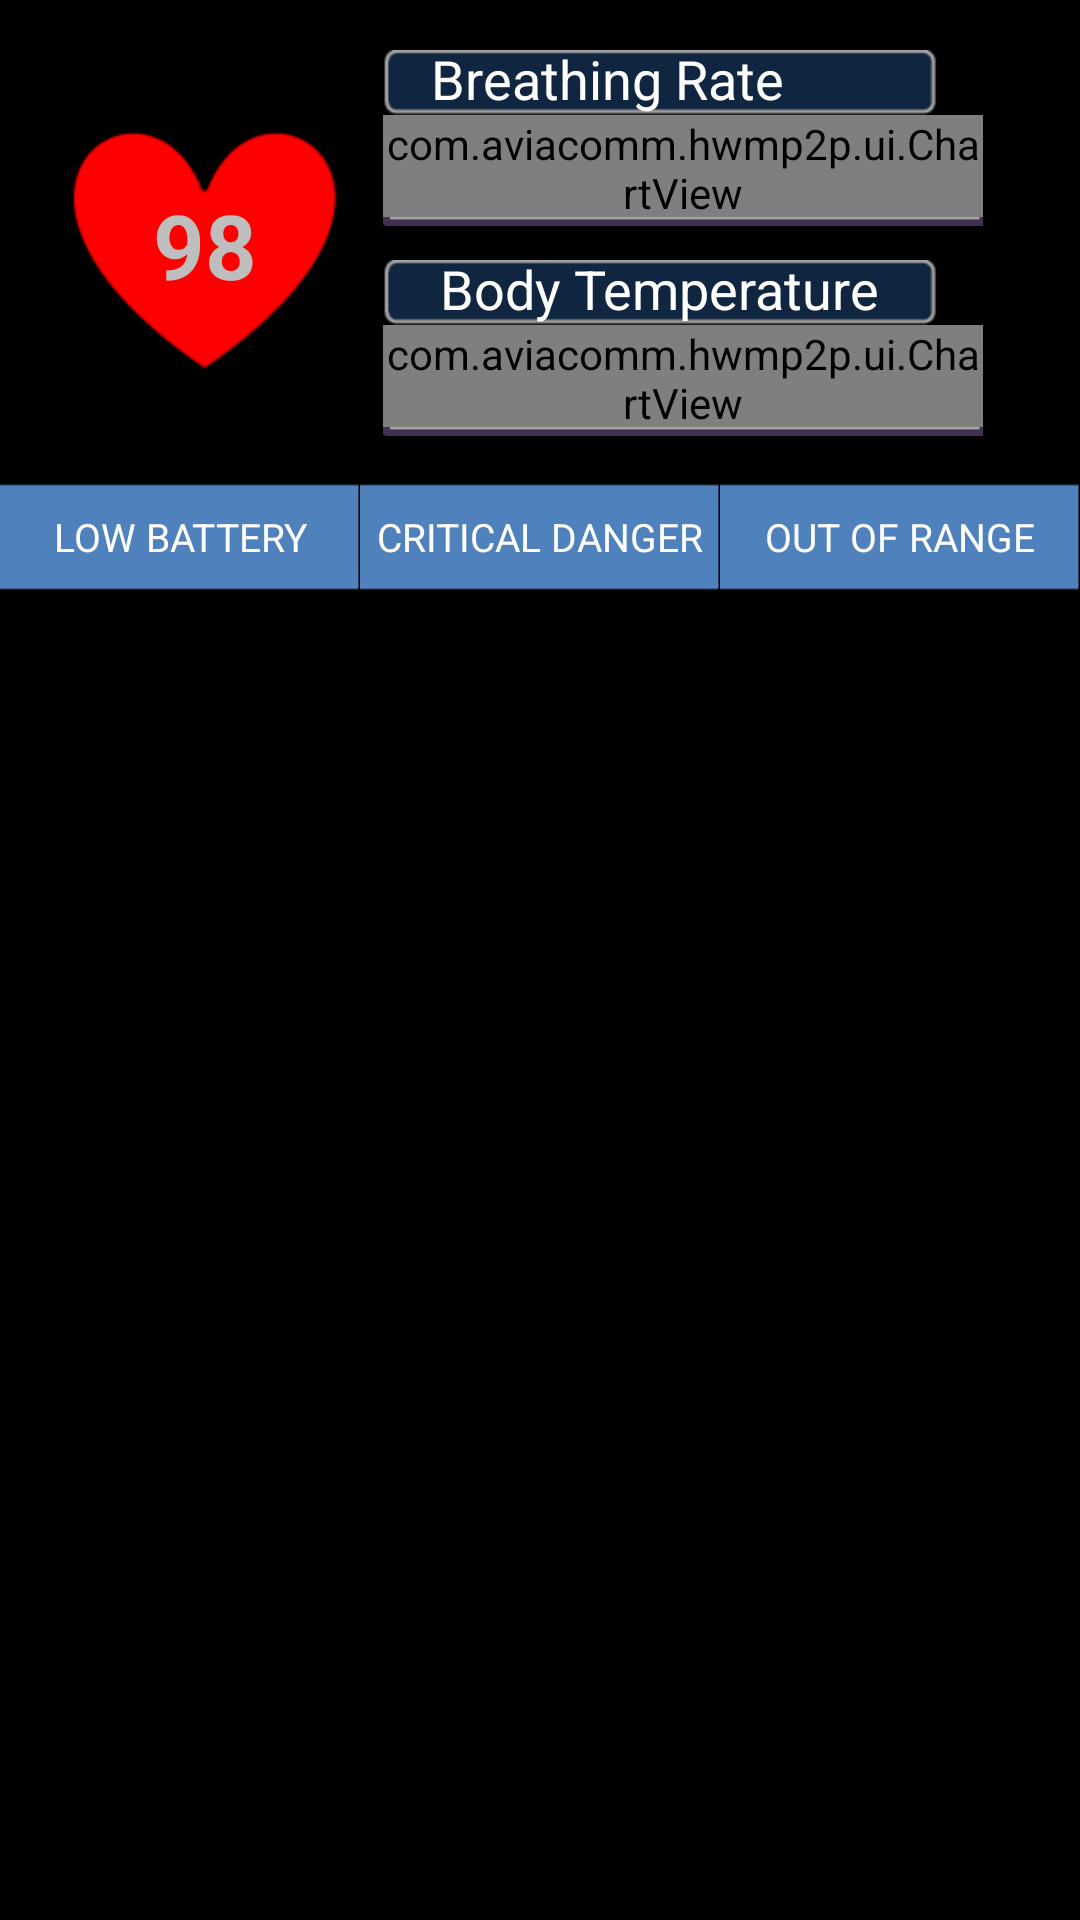

Icons on this 1080x1920 Android screen, each with its box as (x1, y1, x2, y2):
display heart: (73, 132, 337, 369)
